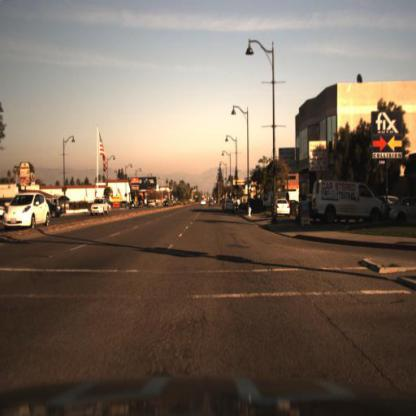car: (313, 177, 386, 221), (5, 193, 50, 232), (48, 198, 65, 223), (274, 198, 292, 219), (90, 198, 113, 214), (224, 200, 236, 216), (127, 199, 137, 211)
